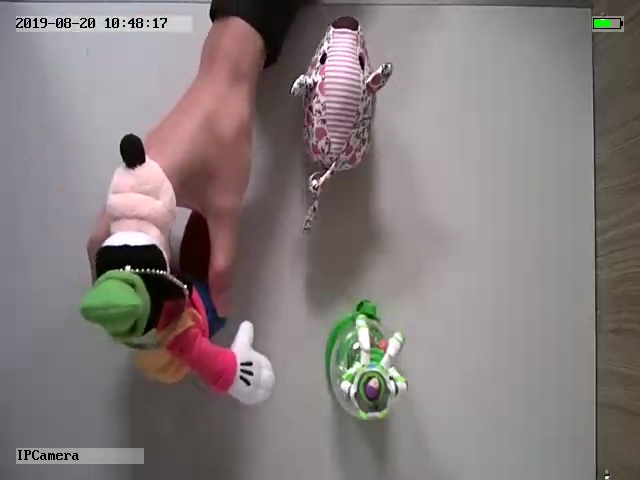buzz: (321, 296, 410, 426)
goofy: (72, 133, 278, 407)
pig: (291, 16, 397, 233)
